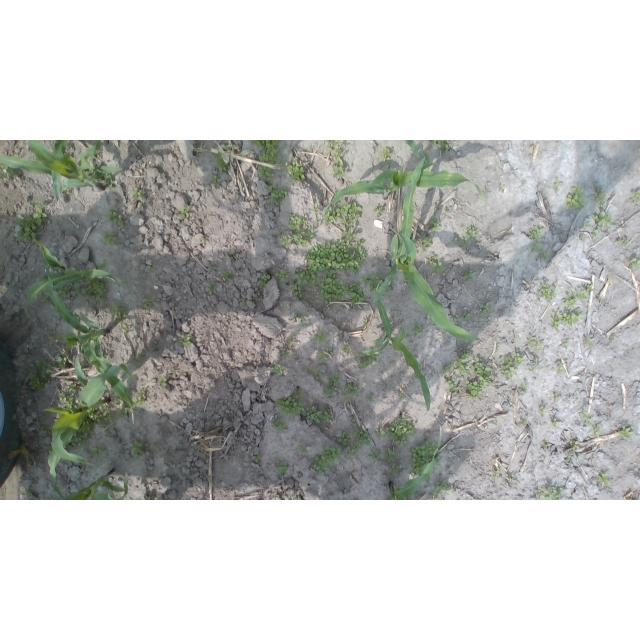Maize: (372, 156, 483, 344), (42, 262, 137, 424), (40, 354, 137, 500), (325, 162, 486, 222), (24, 236, 121, 323), (363, 296, 432, 415), (1, 141, 124, 190), (386, 425, 441, 500), (25, 469, 128, 500), (51, 140, 87, 198), (377, 140, 419, 157)
Weeds: (304, 239, 367, 278), (279, 214, 320, 251), (408, 441, 441, 481), (13, 209, 48, 244), (319, 269, 349, 305), (322, 201, 362, 226), (387, 416, 417, 448), (289, 269, 320, 299), (88, 402, 116, 435), (72, 278, 108, 303), (69, 417, 95, 451), (313, 446, 342, 476), (27, 360, 54, 392), (561, 282, 594, 308), (275, 391, 306, 418), (361, 269, 392, 295), (327, 141, 346, 180), (250, 140, 280, 164), (549, 308, 581, 330), (89, 165, 116, 189), (282, 159, 307, 184), (455, 343, 473, 377), (471, 358, 492, 386), (58, 383, 79, 409), (565, 186, 586, 211), (498, 356, 518, 381), (306, 405, 332, 424), (535, 484, 564, 500), (322, 373, 341, 397), (347, 282, 365, 307), (267, 182, 287, 204), (354, 351, 378, 369), (592, 182, 607, 209), (352, 430, 373, 449), (426, 255, 446, 274), (536, 283, 556, 302), (592, 210, 612, 229), (0, 164, 20, 182), (465, 380, 483, 400), (106, 209, 125, 227), (341, 383, 361, 398), (132, 392, 149, 409), (270, 361, 286, 379), (102, 230, 120, 246), (110, 301, 128, 317), (113, 318, 131, 334), (527, 334, 545, 350), (109, 386, 124, 405), (216, 152, 229, 173), (596, 471, 613, 487), (90, 446, 108, 461), (425, 140, 451, 150), (426, 217, 442, 233), (292, 311, 309, 326), (141, 296, 158, 311), (274, 457, 288, 475), (131, 187, 146, 203), (258, 165, 273, 181), (131, 441, 145, 458), (343, 227, 358, 242), (419, 237, 434, 252), (57, 285, 72, 300), (528, 226, 544, 240), (35, 422, 53, 434), (447, 375, 459, 393), (313, 329, 327, 344), (318, 347, 333, 361), (388, 463, 403, 477), (116, 407, 132, 420), (588, 426, 604, 439), (582, 409, 595, 425), (619, 425, 633, 439), (178, 334, 194, 346), (274, 418, 287, 432), (275, 269, 288, 283), (478, 302, 492, 315), (385, 448, 398, 462), (491, 467, 503, 482), (380, 147, 392, 162), (551, 177, 561, 194), (210, 175, 223, 188), (437, 480, 450, 493), (156, 374, 168, 388), (337, 431, 349, 445), (513, 351, 525, 365), (630, 188, 640, 204), (258, 274, 271, 286), (441, 363, 454, 375), (348, 445, 359, 459), (180, 206, 191, 220), (207, 281, 217, 296), (536, 251, 551, 261), (411, 323, 423, 335), (462, 269, 475, 280), (466, 226, 477, 239), (91, 150, 102, 163), (57, 356, 68, 368), (253, 451, 264, 463), (582, 337, 594, 348), (297, 442, 308, 454), (367, 449, 380, 459), (561, 339, 572, 350), (60, 185, 71, 196), (618, 237, 629, 248), (532, 241, 543, 252), (373, 207, 384, 218), (591, 227, 601, 239), (630, 256, 640, 268), (539, 407, 549, 418), (365, 393, 376, 403), (222, 270, 233, 280), (310, 203, 319, 215), (31, 200, 48, 206), (551, 418, 561, 428), (313, 371, 323, 381), (146, 263, 156, 273), (569, 440, 579, 450), (375, 427, 386, 436), (136, 352, 145, 362), (143, 494, 158, 500), (281, 349, 291, 358), (210, 264, 218, 275), (342, 345, 351, 354), (453, 314, 462, 323), (556, 363, 564, 373), (505, 474, 515, 482), (522, 382, 529, 393), (461, 237, 468, 248), (252, 293, 261, 301), (463, 312, 472, 320), (423, 155, 431, 164), (229, 250, 236, 260), (528, 364, 536, 372), (306, 366, 314, 374), (287, 339, 296, 346), (444, 206, 453, 213), (42, 296, 50, 303), (609, 333, 616, 341), (399, 391, 406, 399), (520, 419, 529, 425), (351, 419, 357, 428), (553, 393, 559, 402), (452, 238, 458, 247), (200, 236, 206, 245), (363, 320, 369, 329), (542, 441, 548, 450), (288, 496, 301, 500), (580, 223, 590, 228), (281, 307, 288, 314), (120, 279, 127, 286), (566, 457, 572, 463), (0, 489, 4, 498), (579, 235, 585, 241), (411, 238, 418, 243), (224, 146, 232, 150), (499, 185, 505, 190), (121, 457, 127, 462), (431, 497, 441, 500), (423, 167, 429, 171), (61, 352, 66, 356), (522, 180, 527, 184), (242, 300, 247, 304), (171, 369, 176, 372), (627, 498, 632, 500)
